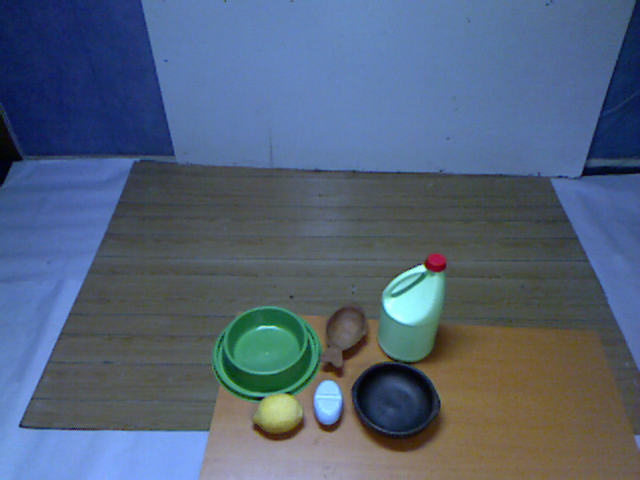cloroplano: (370, 250, 449, 368)
greda: (347, 360, 443, 444)
jabon: (311, 376, 349, 431)
limon: (246, 387, 308, 446)
pescado: (317, 296, 374, 376)
platoperro: (208, 302, 325, 403)
